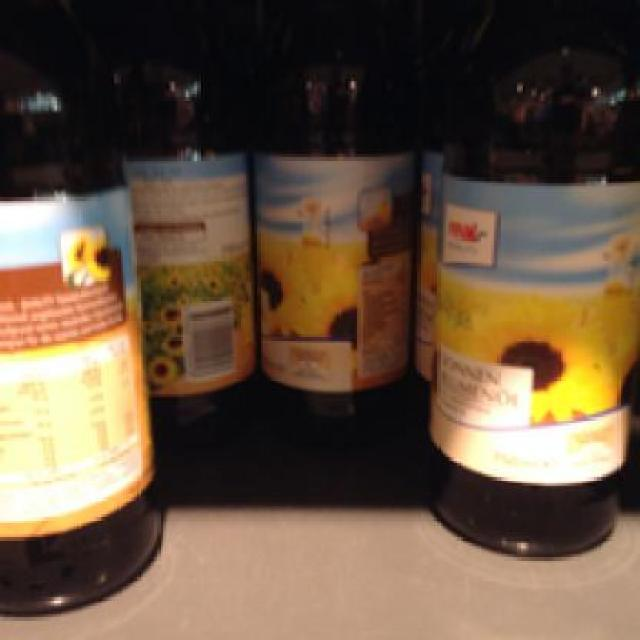Oil: (422, 9, 638, 560), (0, 2, 163, 618), (243, 2, 420, 432), (100, 3, 251, 423)
